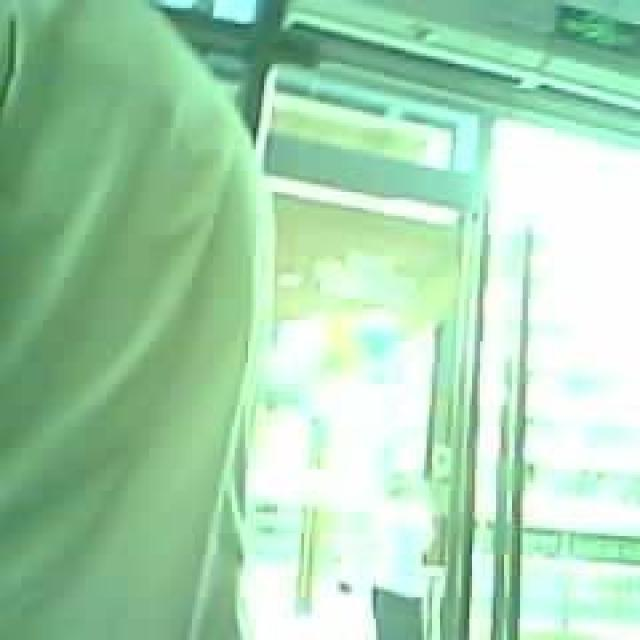person: (0, 1, 280, 639)
